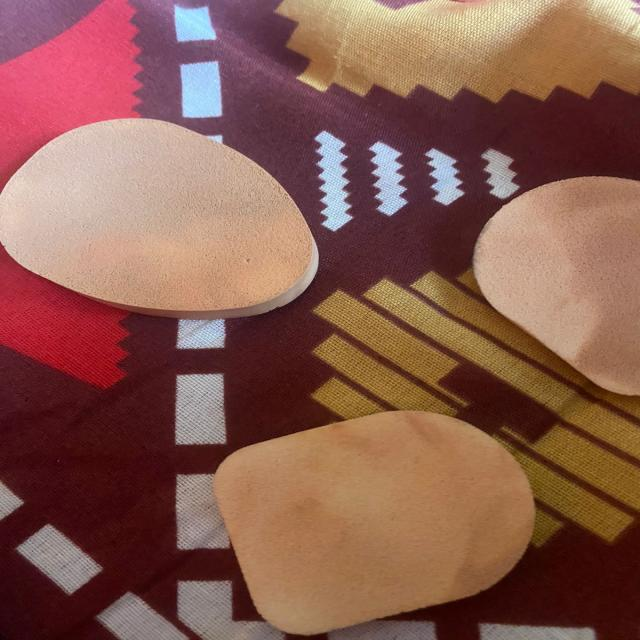beauty blender: (0, 115, 313, 328), (215, 408, 537, 574), (468, 182, 632, 370), (501, 282, 506, 284)
